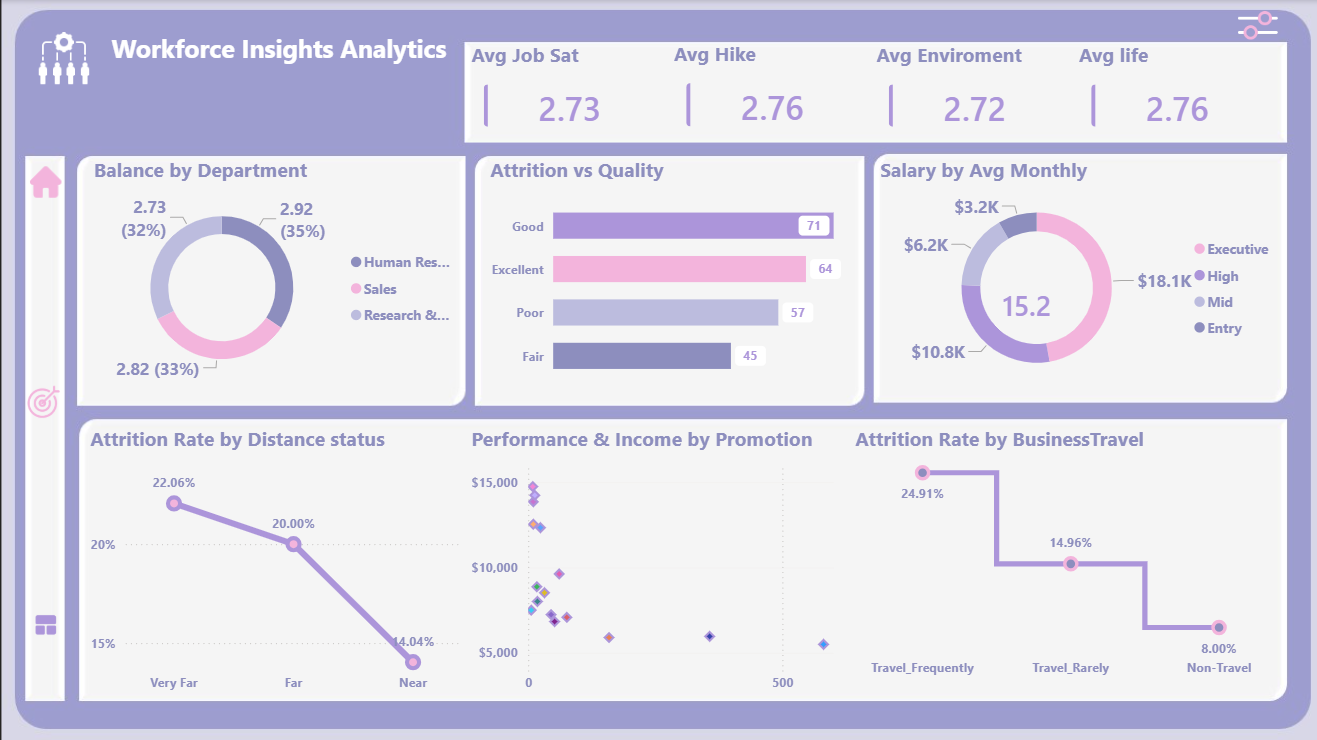

This screenshot's page, from the dashboard's own definition file:
{"tool":"powerbi","page":{"name":"Workforce ","canvas":[1280,720],"ordinal":2},"visuals":[{"type":"cardVisual","fields":{"Data":["Measure's.Av Salary Hike"]},"box":[938.6,258.2,115.4,69.5],"z":0},{"type":"image","title":"Open2","box":[1192.7,0,43.8,48.4],"z":1000,"group":"g1"},{"type":"cardVisual","title":"Avg Job Sat","fields":{"Data":["Measure's.Avg Job Satisfaction"]},"box":[450,39.8,200,100.1],"z":1000},{"type":"cardVisual","title":"Avg Hike","fields":{"Data":["Measure's.Av Work Life Balance"]},"box":[645.4,38.6,200,101.3],"z":2000},{"type":"cardVisual","title":"Avg Enviroment ","fields":{"Data":["Measure's.Avg Environment Satisfaction"]},"box":[840.7,39.8,200.3,100.1],"z":3000},{"type":"donutChart","title":"Balance by Department","fields":{"Y":["Measure's.Av Work Life Balance"],"Category":["HR Employee Attrition.Department"]},"box":[85.7,150.8,364.3,229.2],"z":4000},{"type":"cardVisual","title":"Avg life","fields":{"Data":["Measure's.Av Work Life Balance"]},"box":[1036.3,39.8,200.3,100.1],"z":5000},{"type":"donutChart","title":"Salary by Avg Monthly","fields":{"Y":["Measure's.Av Monthly Icome"],"Category":["HR Employee Attrition.Salary Status"]},"box":[844.5,150.8,394.5,229.2],"z":6000},{"type":"barChart","title":"Attrition vs Quality","fields":{"Y":["Measure's.Total Attrition"],"Category":["HR Employee Attrition.Relationship Quality"]},"box":[468.1,150.8,364.3,229.2],"z":7000},{"type":"textbox","box":[102.5,25.3,347.5,101.3],"z":8000},{"type":"areaChart","fields":{"Y":["Measure's.Attrition Rate"],"Category":["HR Employee Attrition.Distance status"]},"box":[82,410.2,368,266.6],"z":9000},{"type":"lineChart","fields":{"Category":["HR Employee Attrition.BusinessTravel"],"Y":["Measure's.Attrition Rate"]},"box":[820.4,410.2,418.6,252.1],"z":10000},{"type":"scatterChart","title":"Performance & Income by Promotion","fields":{"X":["CountNonNull(HR Employee Attrition.Performance Rating)"],"Y":["Measure's.Av Monthly Icome"],"Category":["HR Employee Attrition.Years Since Last Promotion"]},"box":[450,410.2,370.4,266.6],"z":11000},{"type":"group","id":"g1","title":"O&C 2","box":[1165.8,0,70.7,57.7],"z":12000},{"type":"image","box":[27.7,30.2,67.6,51.9],"z":14000},{"type":"image","box":[24.1,160.5,39.8,30.2],"z":15000},{"type":"image","box":[24.5,345.3,36.1,85.1],"z":16000},{"type":"image","box":[33.8,585.1,20.5,36.2],"z":17000}]}

Visuals, with their boxes in screenshot pixels (x1, y1, x2, y2), scaled from the page's 1280x720 canvas onto the 1317x740 screenshot:
cardVisual - Measure's.Av Salary Hike: {"left": 966, "top": 265, "right": 1084, "bottom": 337}
"Open2" image: {"left": 1227, "top": 0, "right": 1272, "bottom": 50}
"Avg Job Sat" cardVisual: {"left": 463, "top": 41, "right": 669, "bottom": 144}
"Avg Hike" cardVisual: {"left": 664, "top": 40, "right": 870, "bottom": 144}
"Avg Enviroment " cardVisual: {"left": 865, "top": 41, "right": 1071, "bottom": 144}
"Balance by Department" donutChart: {"left": 88, "top": 155, "right": 463, "bottom": 391}
"Avg life" cardVisual: {"left": 1066, "top": 41, "right": 1272, "bottom": 144}
"Salary by Avg Monthly" donutChart: {"left": 869, "top": 155, "right": 1275, "bottom": 391}
"Attrition vs Quality" barChart: {"left": 482, "top": 155, "right": 856, "bottom": 391}
textbox: {"left": 105, "top": 26, "right": 463, "bottom": 130}
areaChart - Measure's.Attrition Rate x HR Employee Attrition.Distance status: {"left": 84, "top": 422, "right": 463, "bottom": 696}
lineChart - HR Employee Attrition.BusinessTravel x Measure's.Attrition Rate: {"left": 844, "top": 422, "right": 1275, "bottom": 681}
"Performance & Income by Promotion" scatterChart: {"left": 463, "top": 422, "right": 844, "bottom": 696}
"O&C 2" group: {"left": 1199, "top": 0, "right": 1272, "bottom": 59}
image: {"left": 29, "top": 31, "right": 98, "bottom": 84}
image: {"left": 25, "top": 165, "right": 66, "bottom": 196}
image: {"left": 25, "top": 355, "right": 62, "bottom": 442}
image: {"left": 35, "top": 601, "right": 56, "bottom": 639}
